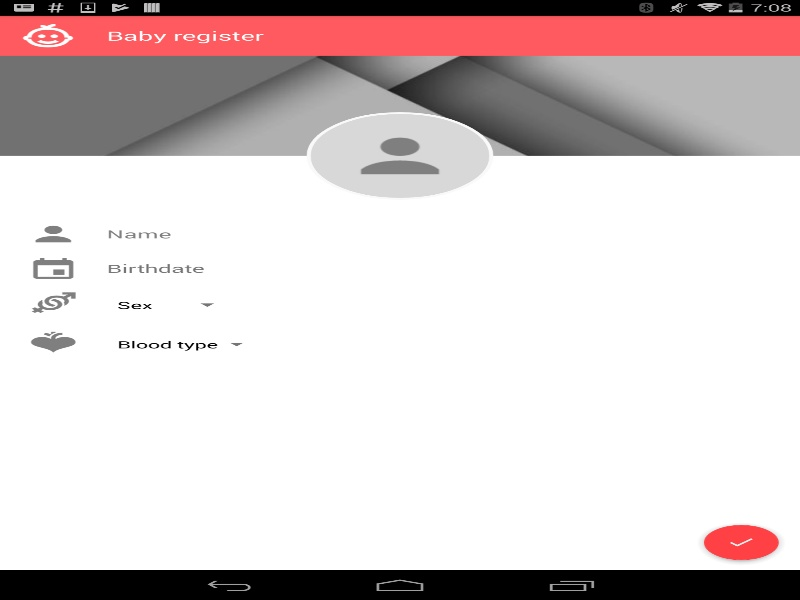Button: (306, 112, 493, 199), (688, 513, 794, 571), (10, 15, 85, 55), (26, 221, 80, 246), (26, 255, 80, 280), (26, 290, 80, 315), (26, 329, 80, 354)
Input: (106, 226, 773, 241)
